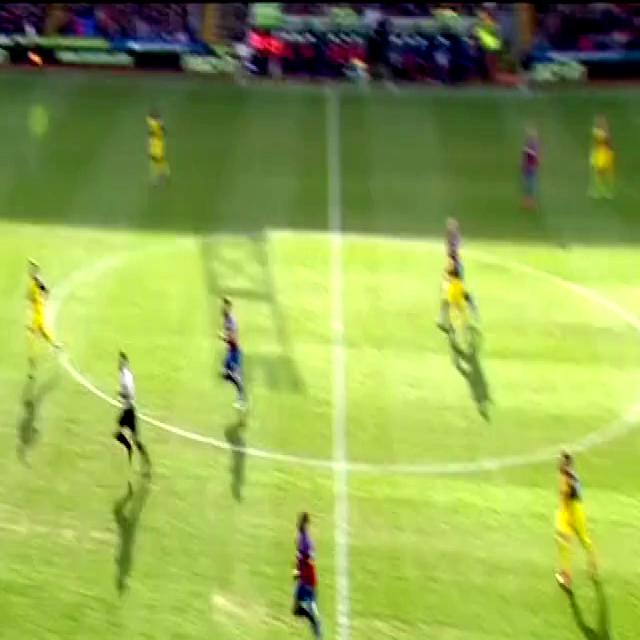referee: (109, 339, 155, 481)
soccer-player: (546, 430, 602, 606), (288, 499, 334, 640), (209, 285, 252, 423), (434, 204, 474, 334), (22, 243, 59, 381), (136, 85, 178, 194), (516, 115, 548, 225)
